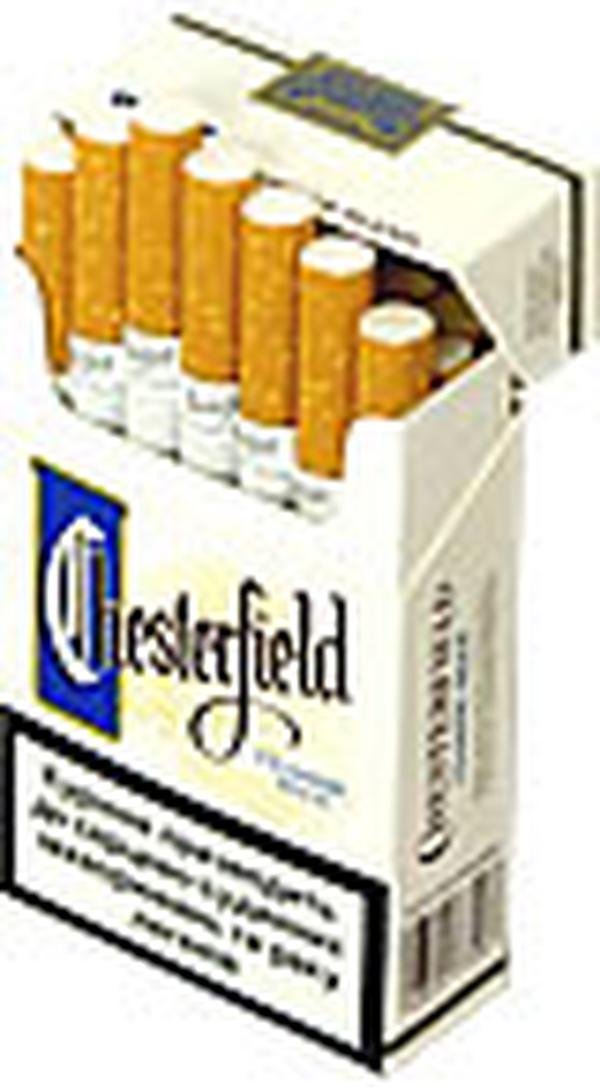chesterfield_blue: (1, 263, 394, 984)
